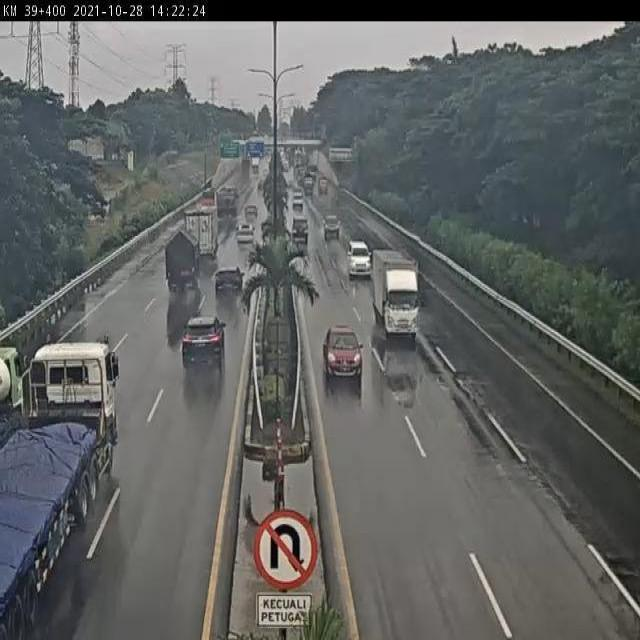car: (181, 314, 227, 370), (324, 324, 363, 384), (214, 267, 244, 296), (236, 223, 255, 245)
truck-l-: (182, 203, 221, 261)
truck-m-: (162, 227, 202, 294)
truck-s-: (371, 249, 424, 344)
truck-xl-: (0, 344, 113, 640)
